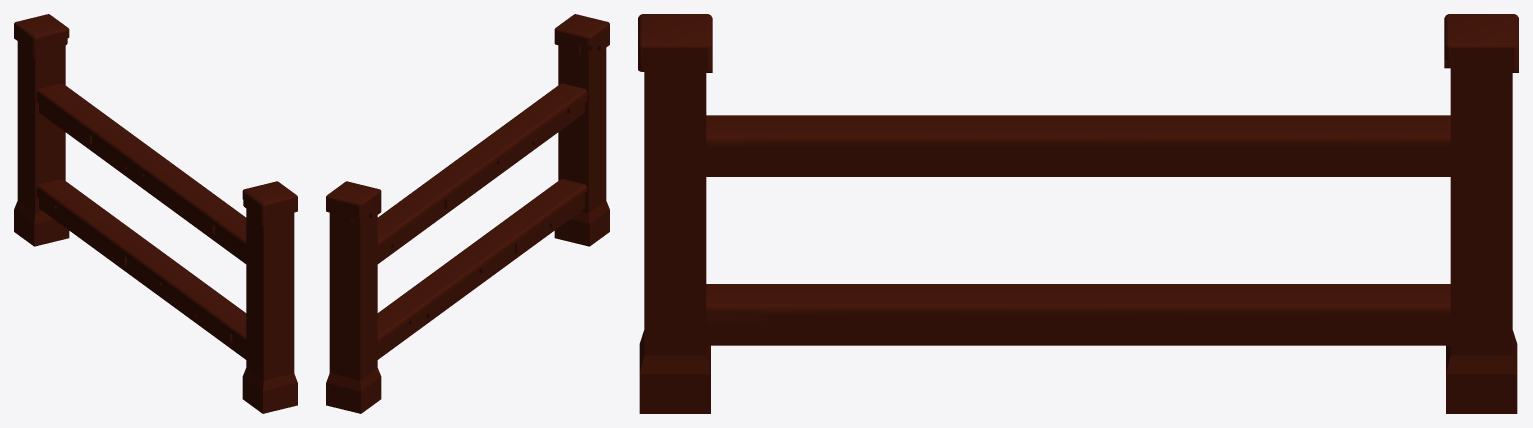
File: Fence_End.fbx
3 renders of one model, left to right at view 1: azimuth 30°, elevation 25°; view 2: azimuth 150°, elevation 25°; view 3: azimuth 270°, elevation 25°, orthographic. The views are drawn at different scales.
Parts seen in each view (by area): view 1: Fence_End; view 2: Fence_End; view 3: Fence_End.
Part boxes in pixels (x1,y1,x2,y2): Fence_End: (14,14,297,413); Fence_End: (326,14,609,413); Fence_End: (638,14,1518,413).
Bounding box in the file's own units: 1.2 × 6.6 × 14.2.
